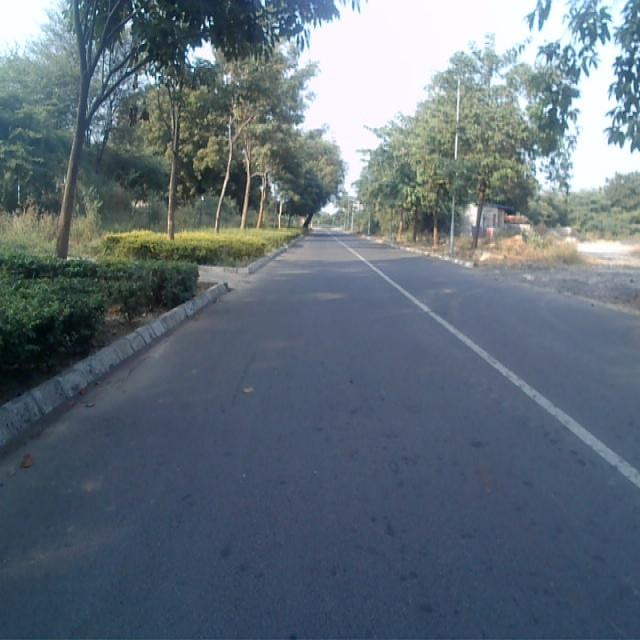lane: (0, 232, 640, 640)
